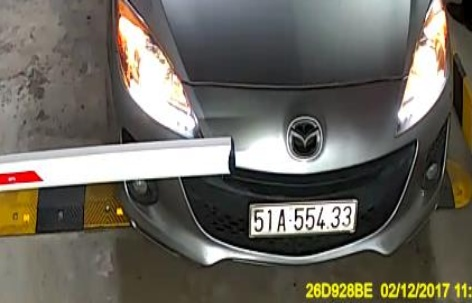plate: (241, 196, 360, 239)
